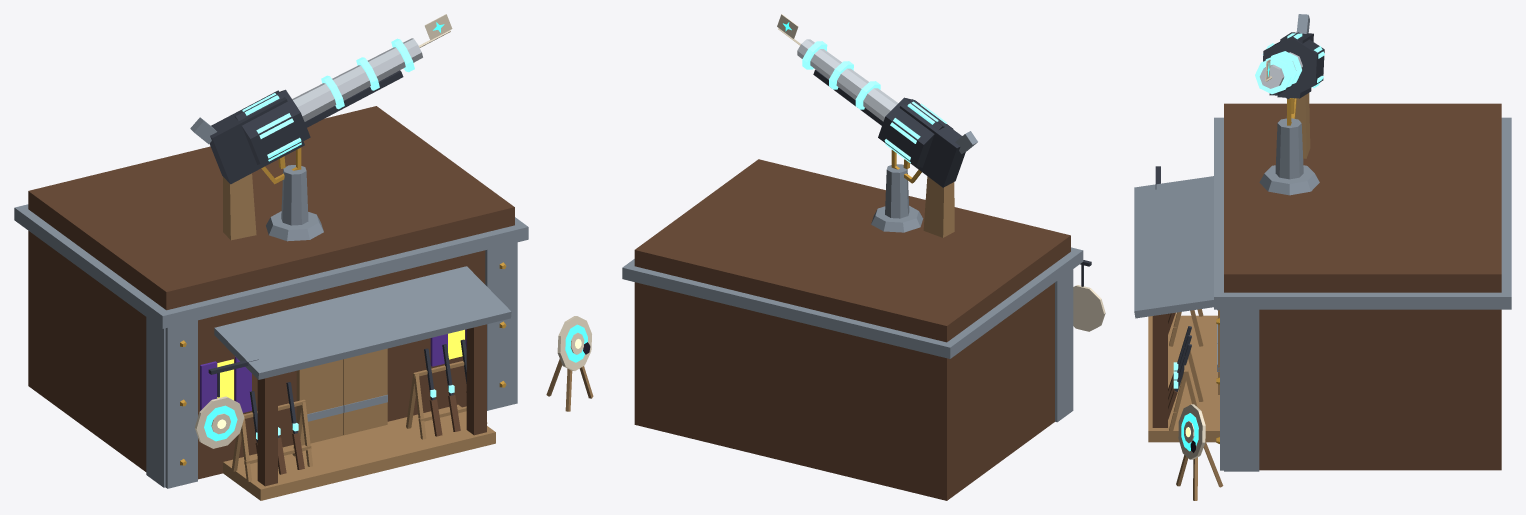
The model's file is Bldg_Armory.fbx.
3 renders of one model, left to right at view 1: azimuth 30°, elevation 25°; view 2: azimuth 150°, elevation 25°; view 3: azimuth 270°, elevation 25°, orthographic. The views are drawn at different scales.
Parts seen in each view (by area): view 1: Bldg_Armory_Body, Bldg_Armory_Revolver, Bldg_Armory_Gun_Racks, Bldg_Armory_Targets, Bldg_Armory_Door_R, Bldg_Armory_Door_L; view 2: Bldg_Armory_Body, Bldg_Armory_Revolver, Bldg_Armory_Targets; view 3: Bldg_Armory_Body, Bldg_Armory_Revolver, Bldg_Armory_Gun_Racks, Bldg_Armory_Targets.
Boxes of the visible parts, x1=… form: Bldg_Armory_Body: x1=14, y1=106, x2=528, y2=500; Bldg_Armory_Revolver: x1=190, y1=14, x2=452, y2=240; Bldg_Armory_Gun_Racks: x1=231, y1=339, x2=487, y2=481; Bldg_Armory_Targets: x1=195, y1=316, x2=593, y2=448; Bldg_Armory_Door_R: x1=343, y1=348, x2=387, y2=435; Bldg_Armory_Door_L: x1=296, y1=359, x2=343, y2=445; Bldg_Armory_Body: x1=622, y1=159, x2=1091, y2=500; Bldg_Armory_Revolver: x1=777, y1=14, x2=977, y2=237; Bldg_Armory_Targets: x1=1073, y1=265, x2=1105, y2=331; Bldg_Armory_Body: x1=1134, y1=103, x2=1511, y2=471; Bldg_Armory_Revolver: x1=1255, y1=14, x2=1324, y2=158; Bldg_Armory_Gun_Racks: x1=1168, y1=309, x2=1203, y2=432; Bldg_Armory_Targets: x1=1176, y1=404, x2=1223, y2=500.
Size of the model in its own units: 9.73 by 8.44 by 7.48.
